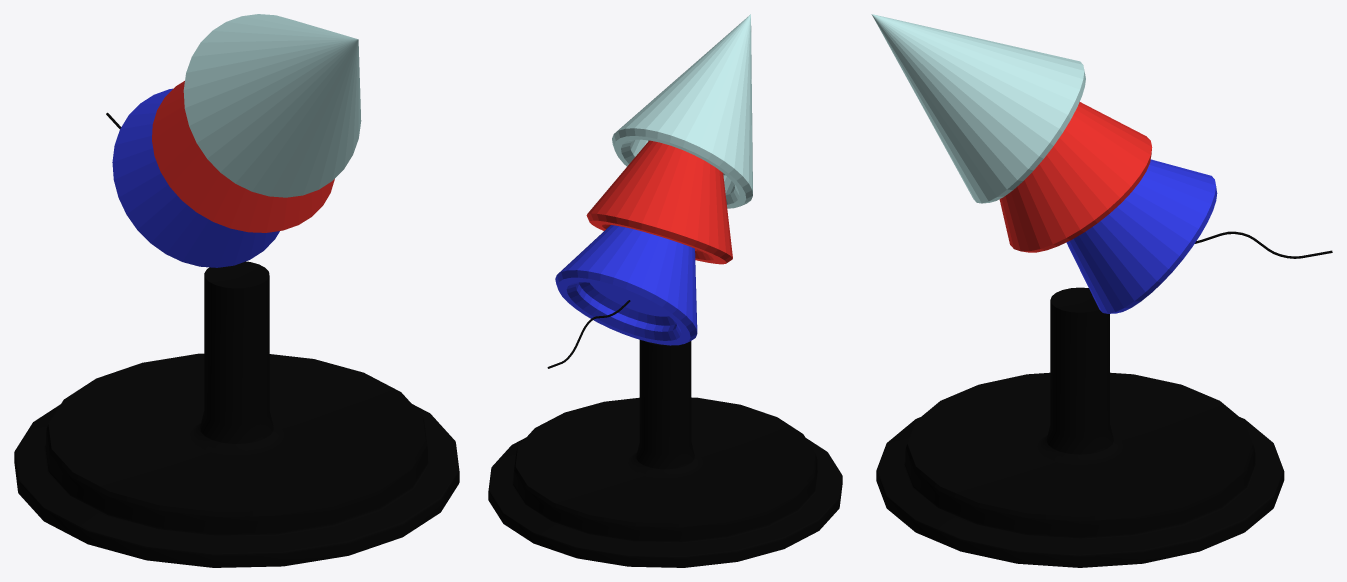
The model's file is feu1.fbx.
The picture shows the model from 3 angles, left to right: view 1: azimuth 30°, elevation 25°; view 2: azimuth 150°, elevation 25°; view 3: azimuth 270°, elevation 25°; orthographic projection. The views are drawn at different scales.
Visible parts, largest first — view 1: Socle_pomme, Cone.003, Cone, Cone.002; view 2: Socle_pomme, Cone.003, Cone, Cone.002; view 3: Socle_pomme, Cone.003, Cone.002, Cone.
Boxes of the visible parts, x1,y1,x2,y2 form: Socle_pomme: (14, 261, 459, 567); Cone.003: (183, 14, 361, 197); Cone: (112, 88, 279, 267); Cone.002: (152, 81, 334, 232); Socle_pomme: (488, 340, 842, 567); Cone.003: (612, 14, 752, 208); Cone: (555, 225, 697, 345); Cone.002: (586, 140, 732, 264); Socle_pomme: (876, 287, 1284, 567); Cone.003: (871, 14, 1085, 203); Cone.002: (999, 102, 1152, 252); Cone: (1066, 159, 1217, 313).
Bounding box in the file's own units: 200 × 255 × 226.
